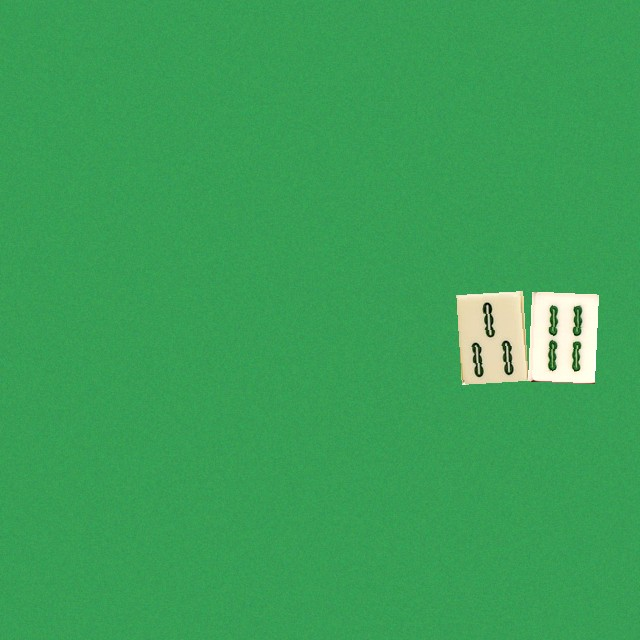tile: (456, 291, 523, 381), (527, 291, 594, 381)
